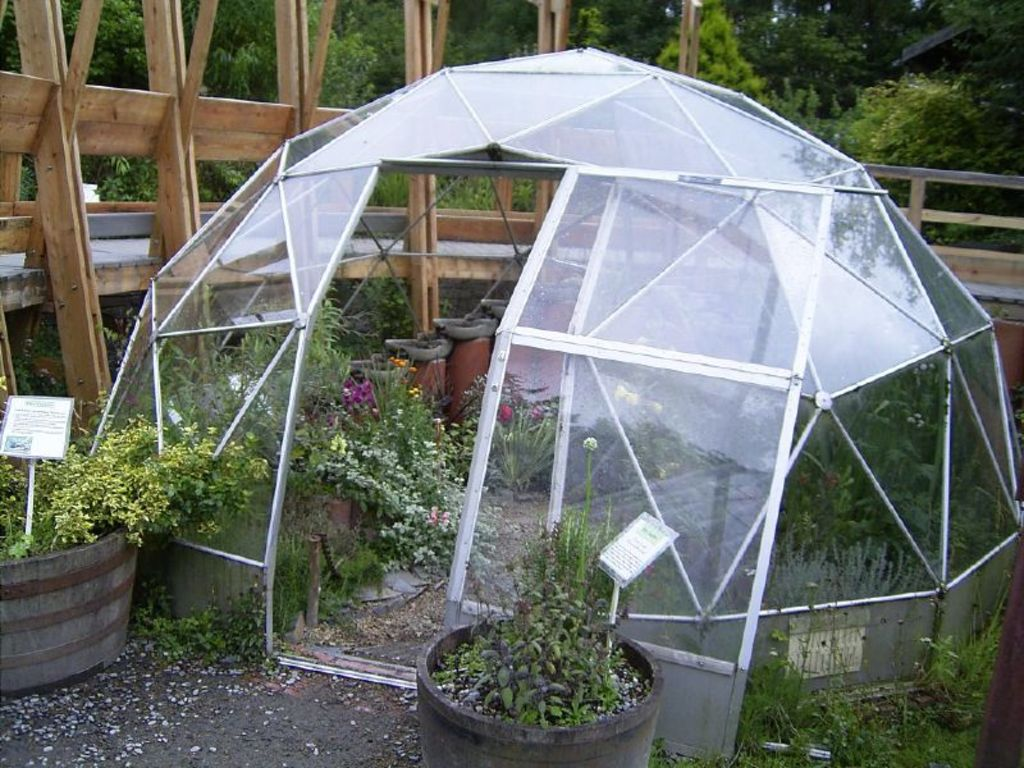Tree: (0, 0, 1024, 254)
